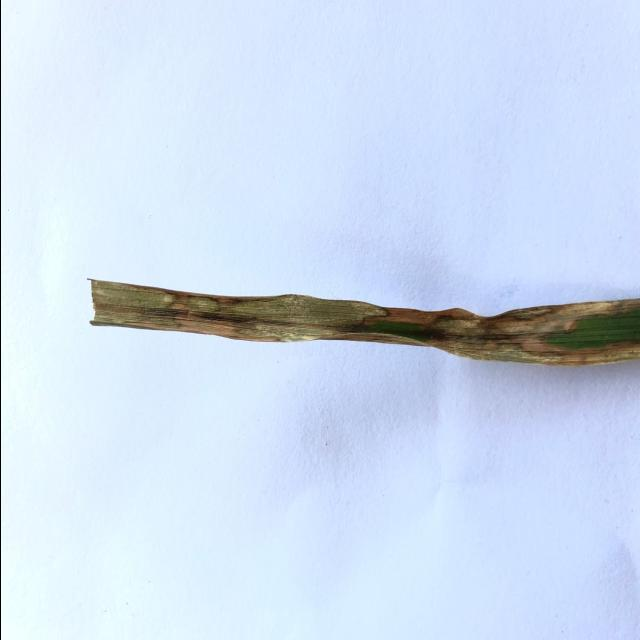Leaf Blight: (90, 280, 640, 366)
